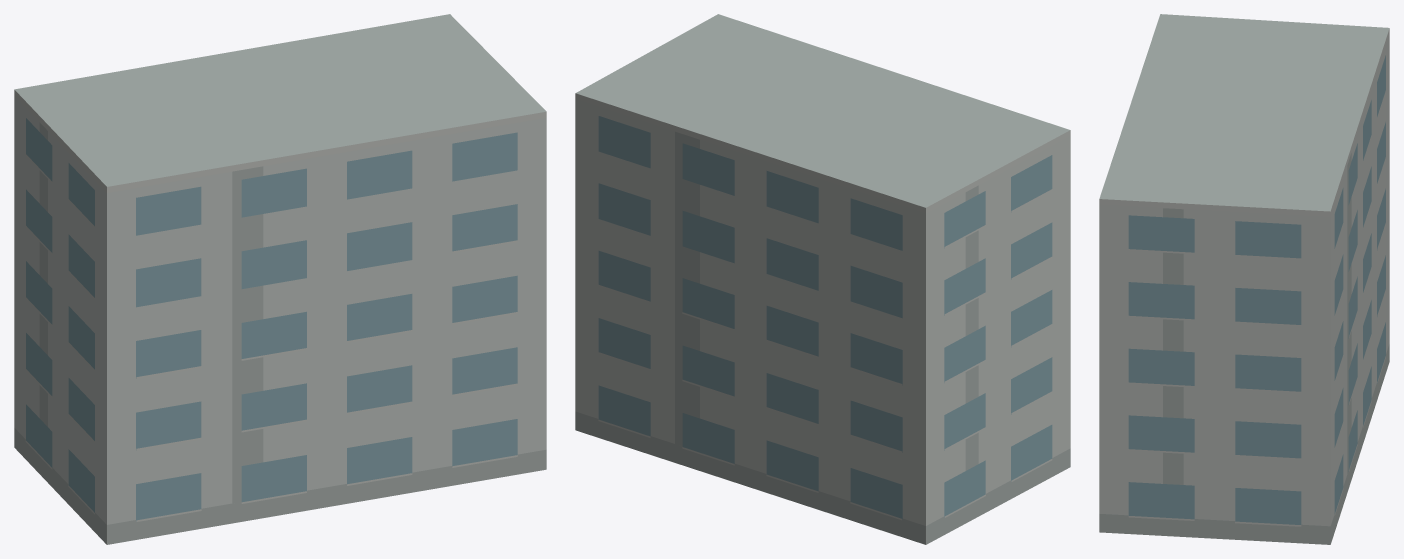
Rendered from survey-upis-32676589.glb.
3 renders of one model, left to right at view 1: azimuth 30°, elevation 25°; view 2: azimuth 150°, elevation 25°; view 3: azimuth 270°, elevation 25°, orthographic. The views are drawn at different scales.
Parts seen in each view (by area): view 1: survey-upis-32676589.tmp; view 2: survey-upis-32676589.tmp; view 3: survey-upis-32676589.tmp.
Boxes of the visible parts, x1,y1,x2,y2 form: survey-upis-32676589.tmp: (14,14,546,544); survey-upis-32676589.tmp: (575,14,1070,544); survey-upis-32676589.tmp: (1099,14,1389,544).
Size of the model in its own units: 18.05 by 14.2 by 11.22.
